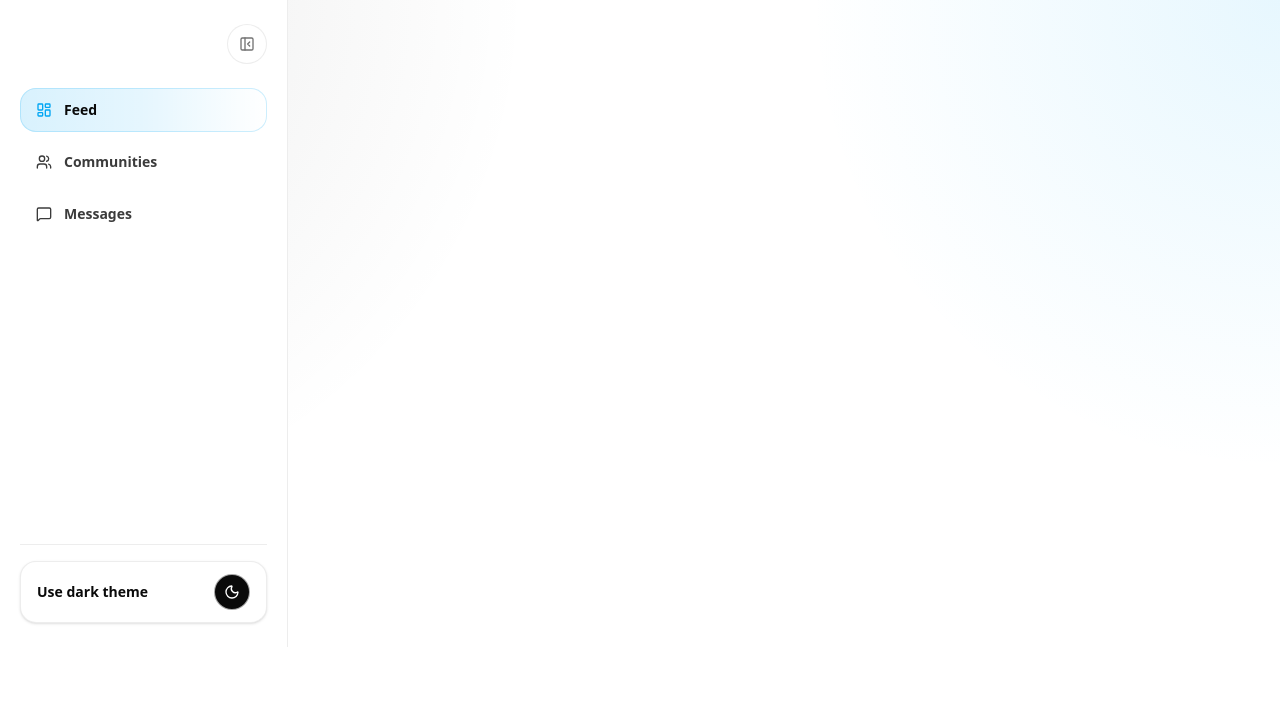
Scenario: Sidebar › persists the collapsed state when toggled
Click the button named "Collapse sidebar": [247, 44] box left=227, top=24, right=267, bottom=64
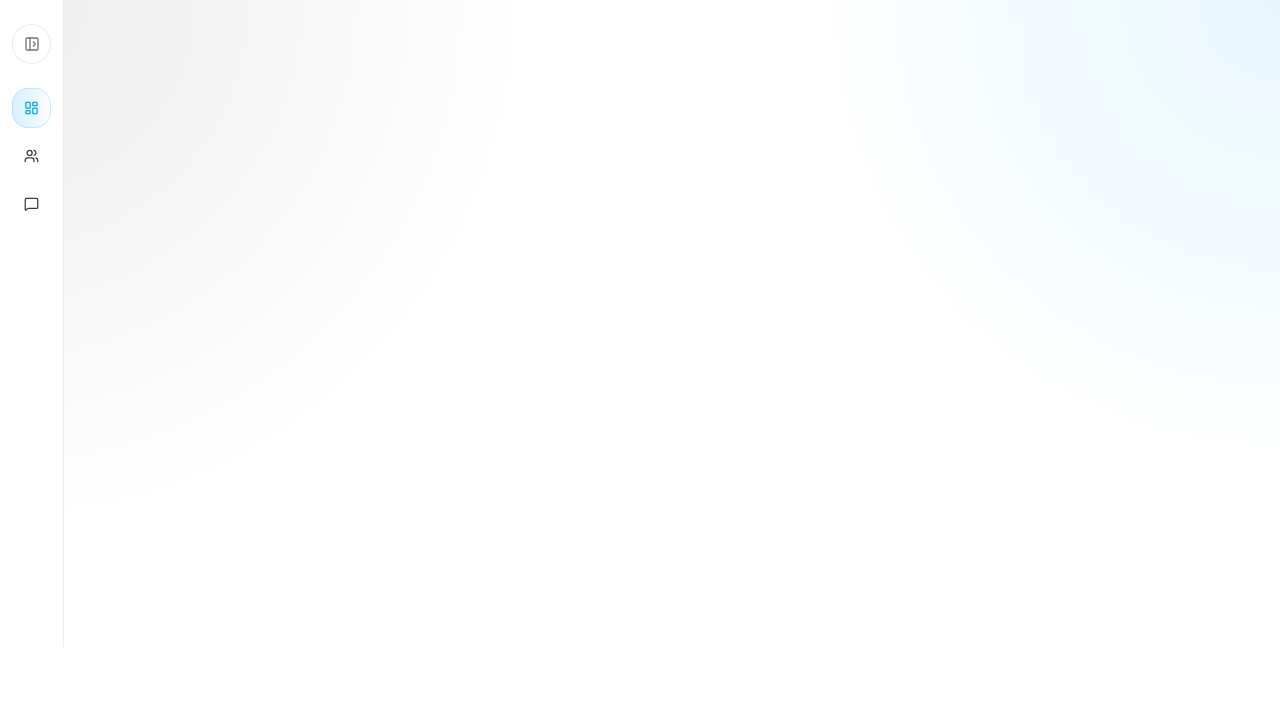
Check: the button named "Expand sidebar" is shown, box left=12, top=24, right=51, bottom=64
